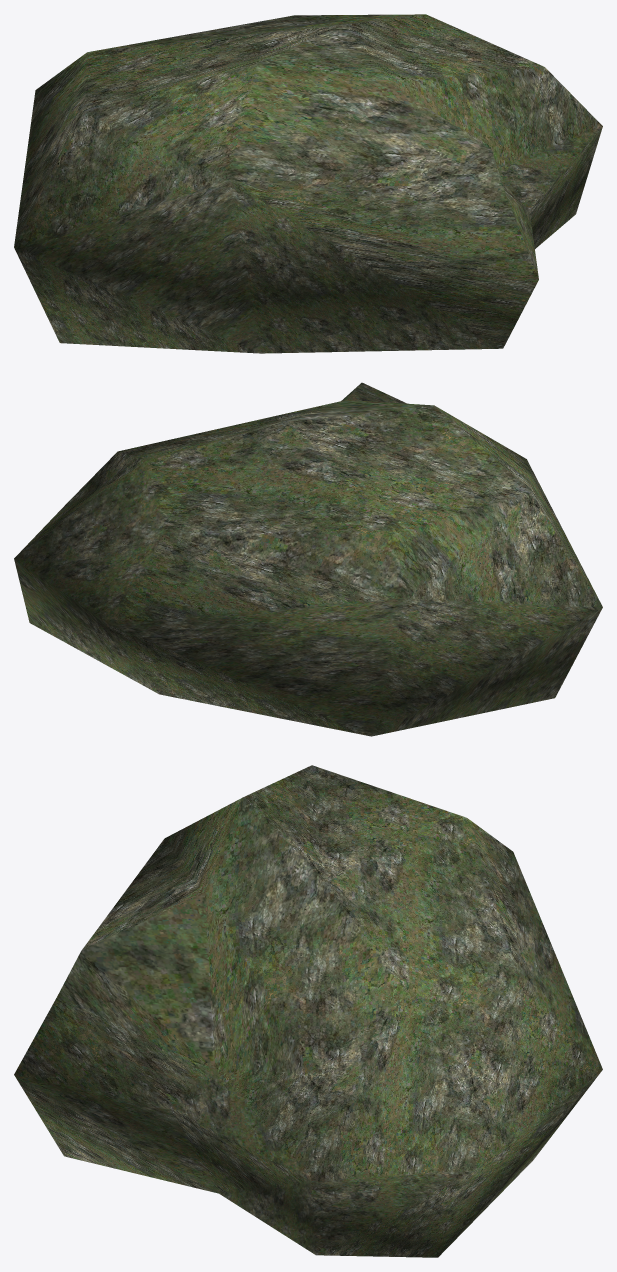
The model's file is mtns_rock_moss_a4_l1.fbx.
3 renders of one model, top to bottom at view 1: azimuth 30°, elevation 25°; view 2: azimuth 150°, elevation 25°; view 3: azimuth 270°, elevation 25°, orthographic. The views are drawn at different scales.
Visible parts, largest first — view 1: mesh_node; view 2: mesh_node; view 3: mesh_node.
Boxes of the visible parts, box(x1,y1,x2,y2) form: mesh_node: box(14, 14, 602, 353); mesh_node: box(14, 382, 602, 736); mesh_node: box(14, 765, 602, 1257).
Size of the model in its own units: 2.31 by 0.9825 by 1.88.
